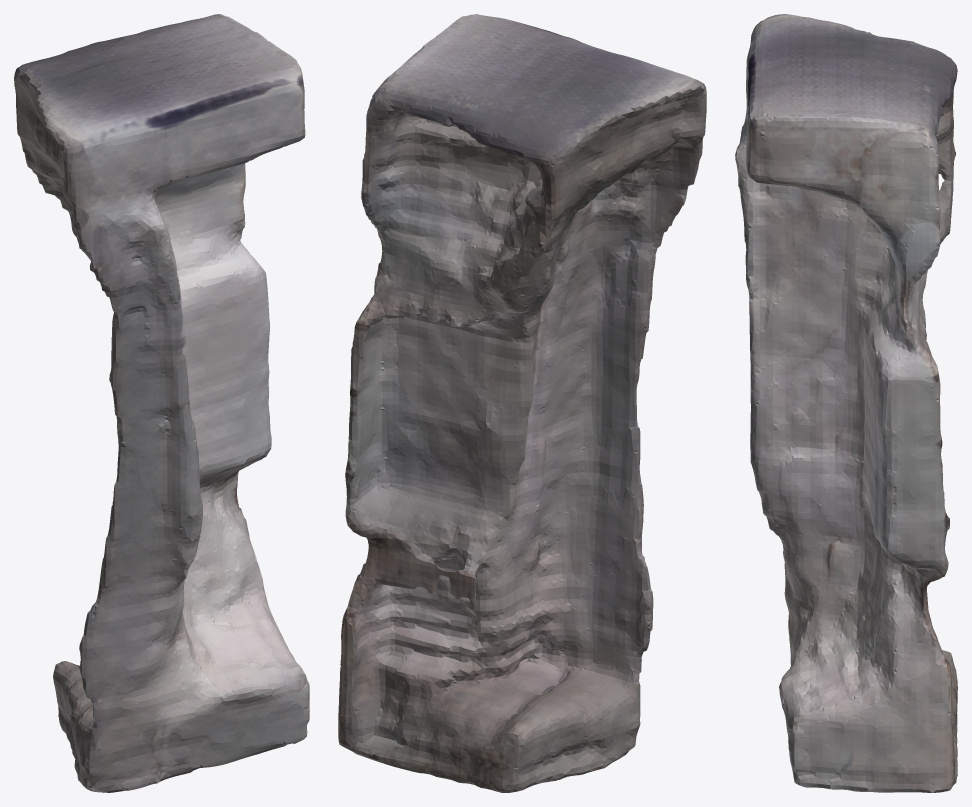
The model's file is 0_rgba.obj.
3 views of the same model, side by side, from view 1: azimuth 30°, elevation 25°; view 2: azimuth 150°, elevation 25°; view 3: azimuth 270°, elevation 25° (orthographic). The views are drawn at different scales.
Bounding box in the file's own units: 0.8203 × 1.95 × 0.5848.
Materials: 1 (1 with a texture image).
